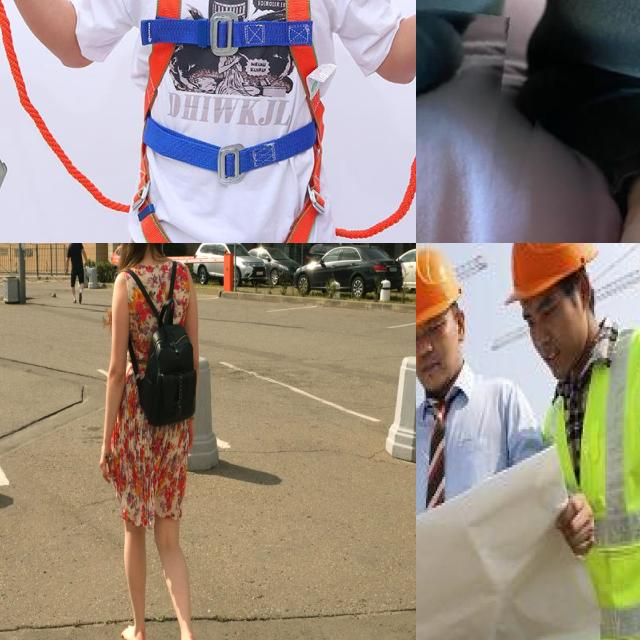Barefoots: (121, 625, 147, 640)
Harness: (132, 0, 330, 243)
No_Ear-Protection: (578, 266, 594, 309), (456, 305, 470, 343)
face_nomask: (524, 275, 581, 377), (416, 312, 464, 391)
hand_noglove: (554, 491, 600, 560)
head_helmet: (498, 243, 597, 305), (416, 248, 465, 329)
person: (509, 243, 640, 640), (416, 248, 518, 640)
vest: (547, 374, 640, 640)
